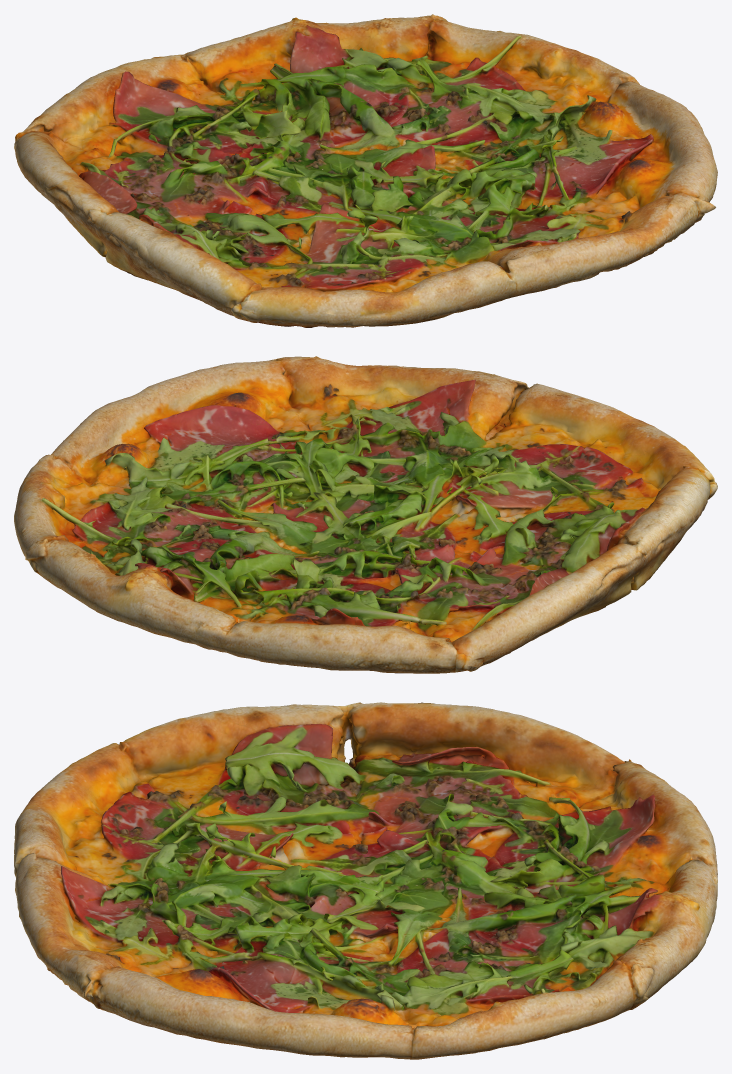
Rendered from pizza-web.glb.
3 views of the same model, one above another, from view 1: azimuth 30°, elevation 25°; view 2: azimuth 150°, elevation 25°; view 3: azimuth 270°, elevation 25° (orthographic). The views are drawn at different scales.
Parts seen in each view (by area): view 1: Faro_Pizza_Scan; view 2: Faro_Pizza_Scan; view 3: Faro_Pizza_Scan.
Boxes of the visible parts, bbox=[...] form: Faro_Pizza_Scan: bbox=[14, 14, 717, 327]; Faro_Pizza_Scan: bbox=[14, 356, 717, 673]; Faro_Pizza_Scan: bbox=[14, 702, 717, 1059].
Size of the model in its own units: 6 by 0.5969 by 5.79.
1 material, 1 textured.
